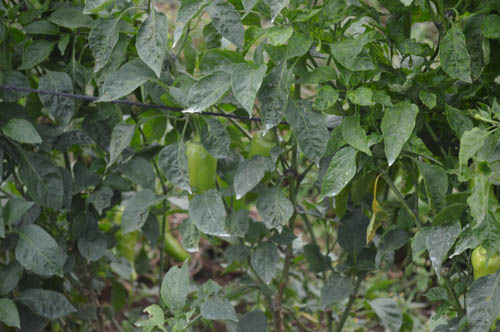ChiliPepper: (182, 144, 221, 209)
